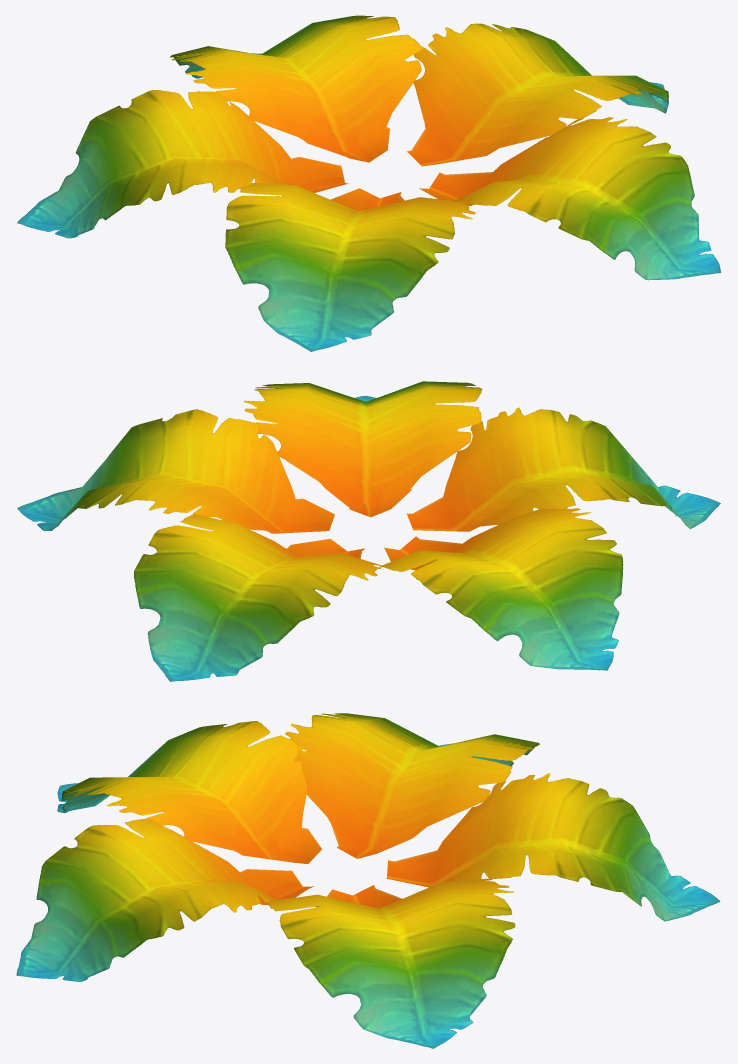
Rendered from scenes_cave_flower01a.FBX.
3 views of the same model, one above another, from view 1: azimuth 30°, elevation 25°; view 2: azimuth 150°, elevation 25°; view 3: azimuth 270°, elevation 25° (orthographic). The views are drawn at different scales.
Parts seen in each view (by area): view 1: scenes_cave_flower01a; view 2: scenes_cave_flower01a; view 3: scenes_cave_flower01a.
Part boxes in pixels (<box>): scenes_cave_flower01a: <box>17,15,720,351</box>; scenes_cave_flower01a: <box>17,381,720,681</box>; scenes_cave_flower01a: <box>16,713,720,1048</box>.
Size of the model in its own units: 411 by 50.48 by 399.
